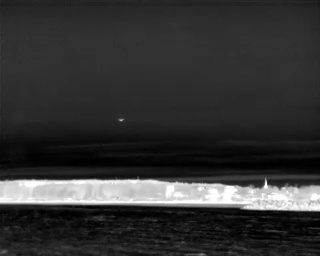BIRD: (117, 116, 126, 125)
